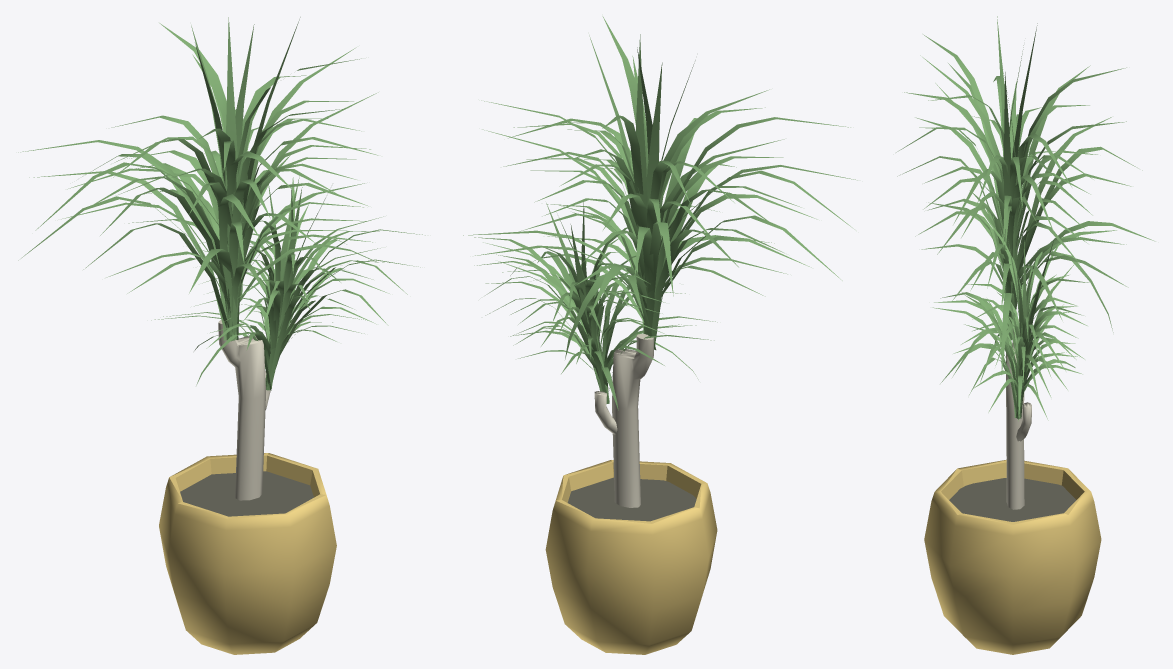
File: flowerpot.glb
3 views of the same model, side by side, from view 1: azimuth 30°, elevation 25°; view 2: azimuth 150°, elevation 25°; view 3: azimuth 270°, elevation 25° (orthographic). The views are drawn at different scales.
Parts seen in each view (by area): view 1: Mesh228__24ce3c67_6324_874f_8ace_0c3c86ff1c30__0, Mesh225__a429534d_e402_bb45_9a56_a7164ca27d2f__0.001, Mesh_flowerpot, Mesh227__71a02ef5_0f4f_1343_bc8f_da35bc6848f4__0.001; view 2: Mesh228__24ce3c67_6324_874f_8ace_0c3c86ff1c30__0, Mesh225__a429534d_e402_bb45_9a56_a7164ca27d2f__0.001, Mesh_flowerpot, Mesh227__71a02ef5_0f4f_1343_bc8f_da35bc6848f4__0.001; view 3: Mesh228__24ce3c67_6324_874f_8ace_0c3c86ff1c30__0, Mesh225__a429534d_e402_bb45_9a56_a7164ca27d2f__0.001, Mesh227__71a02ef5_0f4f_1343_bc8f_da35bc6848f4__0.001, Mesh_flowerpot.
Part boxes in pixels (x1,y1,x2,y2): Mesh228__24ce3c67_6324_874f_8ace_0c3c86ff1c30__0: [18, 17, 425, 390]; Mesh225__a429534d_e402_bb45_9a56_a7164ca27d2f__0.001: [159, 453, 336, 654]; Mesh_flowerpot: [218, 320, 270, 500]; Mesh227__71a02ef5_0f4f_1343_bc8f_da35bc6848f4__0.001: [180, 471, 313, 516]; Mesh228__24ce3c67_6324_874f_8ace_0c3c86ff1c30__0: [463, 16, 857, 410]; Mesh225__a429534d_e402_bb45_9a56_a7164ca27d2f__0.001: [545, 460, 717, 654]; Mesh_flowerpot: [594, 334, 654, 507]; Mesh227__71a02ef5_0f4f_1343_bc8f_da35bc6848f4__0.001: [567, 477, 696, 521]; Mesh228__24ce3c67_6324_874f_8ace_0c3c86ff1c30__0: [896, 16, 1155, 421]; Mesh225__a429534d_e402_bb45_9a56_a7164ca27d2f__0.001: [924, 459, 1101, 654]; Mesh227__71a02ef5_0f4f_1343_bc8f_da35bc6848f4__0.001: [949, 478, 1076, 521]; Mesh_flowerpot: [1006, 319, 1031, 509].
Bounding box in the file's own units: 26.76 × 39.12 × 15.92.
